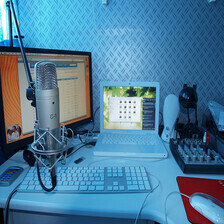laptop: (83, 78, 174, 164)
